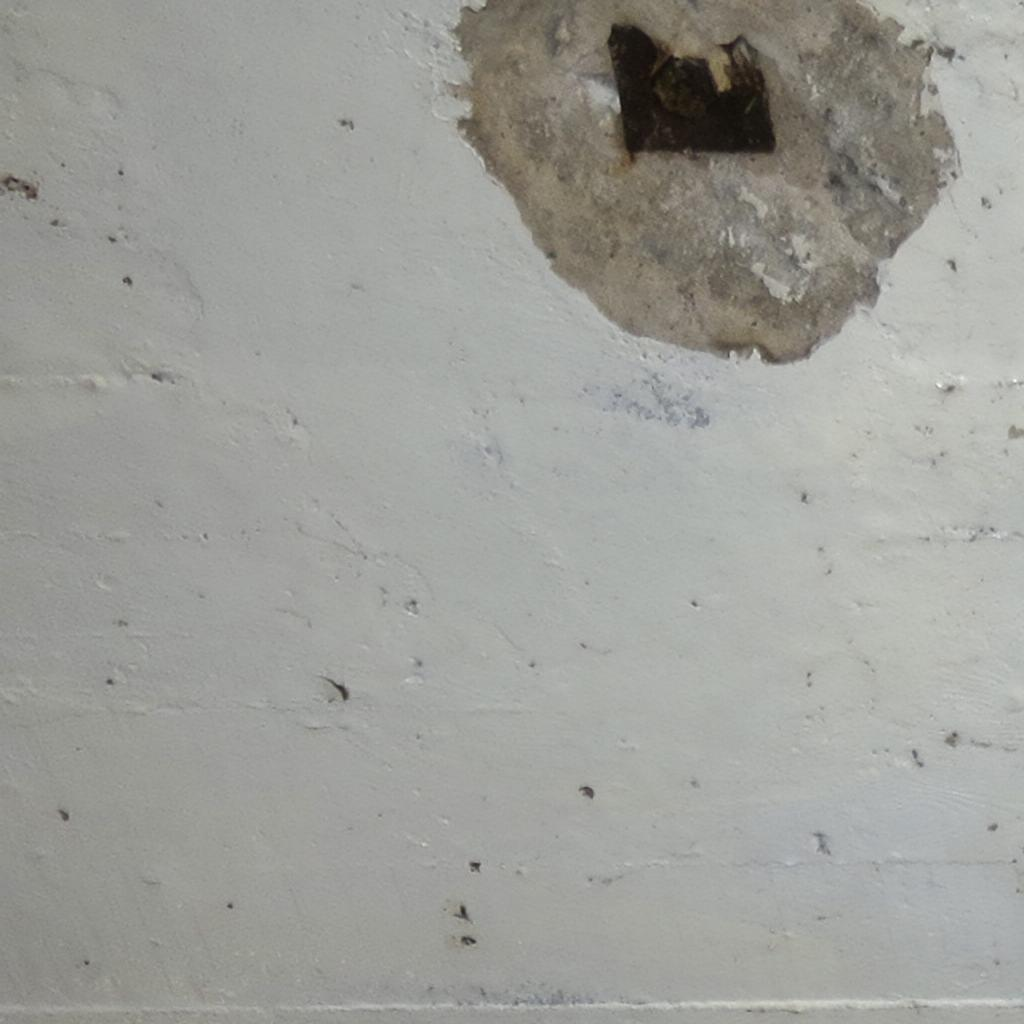exposed_rebar: (608, 24, 776, 154)
spalling: (456, 0, 956, 361)
